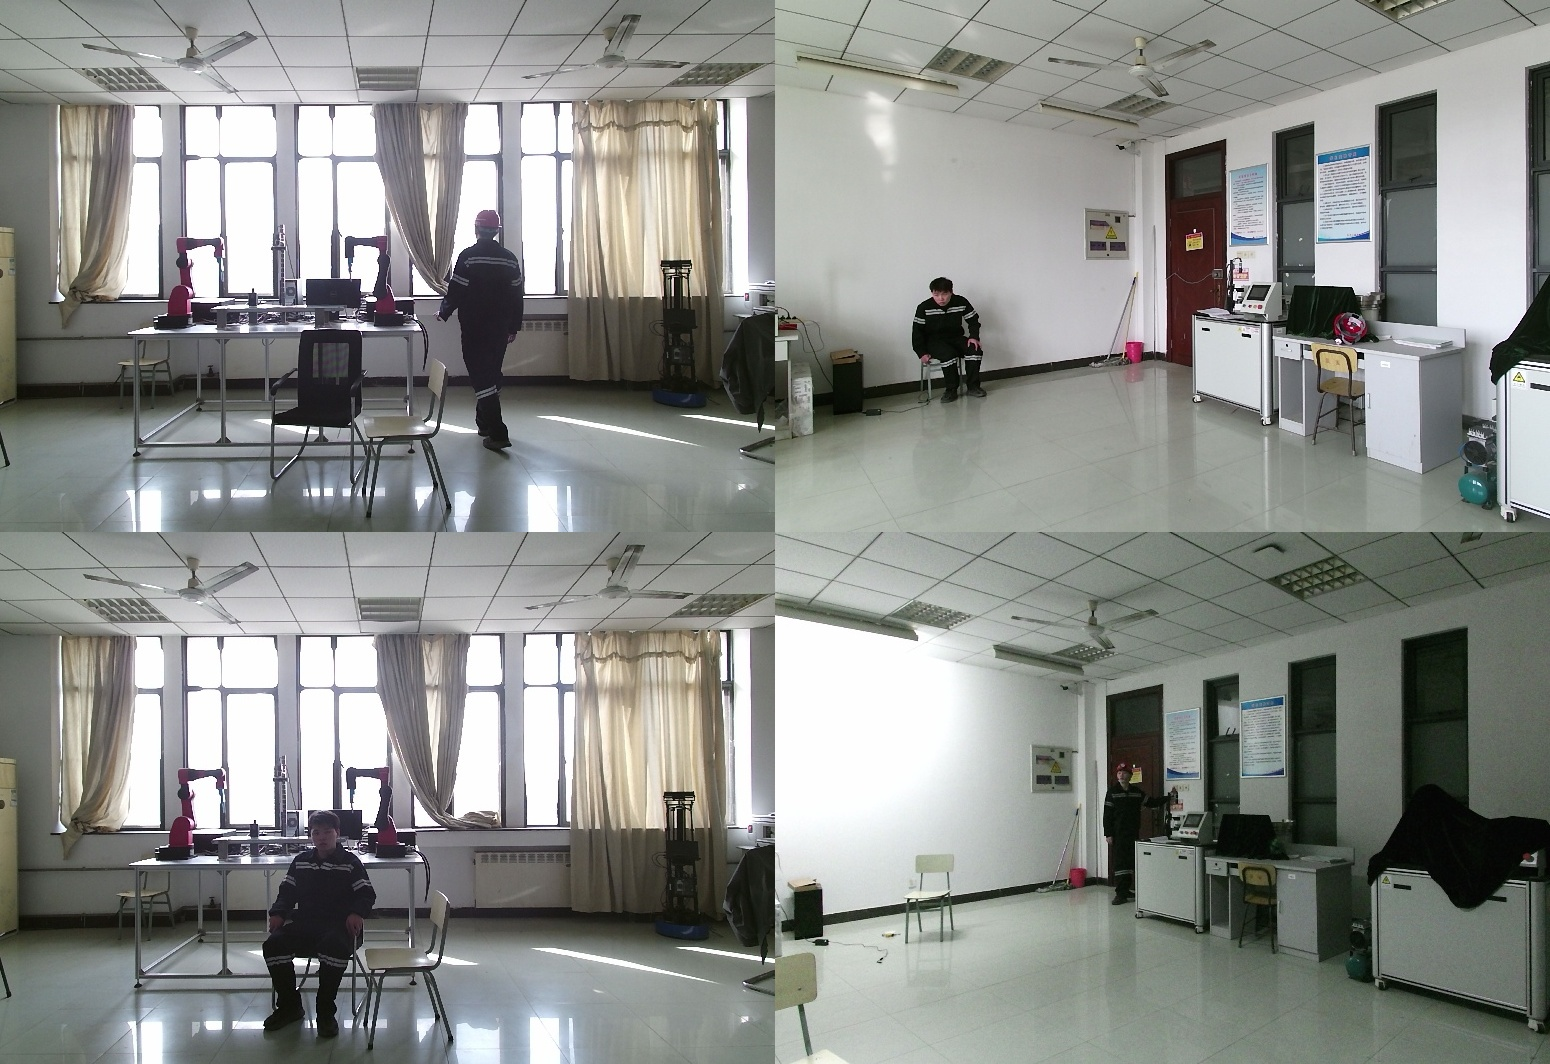person: (261, 812, 383, 1030), (439, 207, 529, 455), (909, 278, 989, 403), (1097, 761, 1151, 909)
